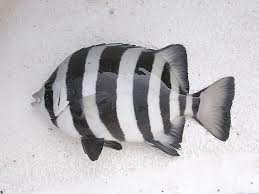azi: (33, 41, 237, 154)
